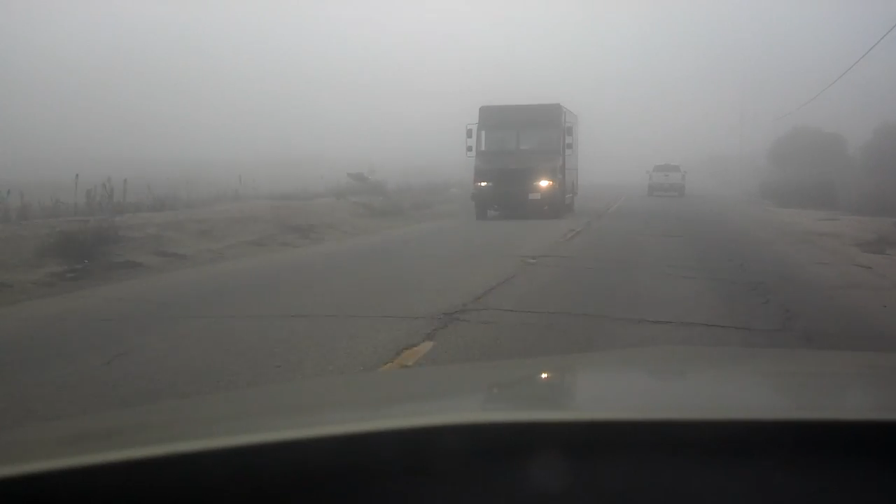bus: (464, 102, 581, 220)
car: (645, 161, 689, 196)
